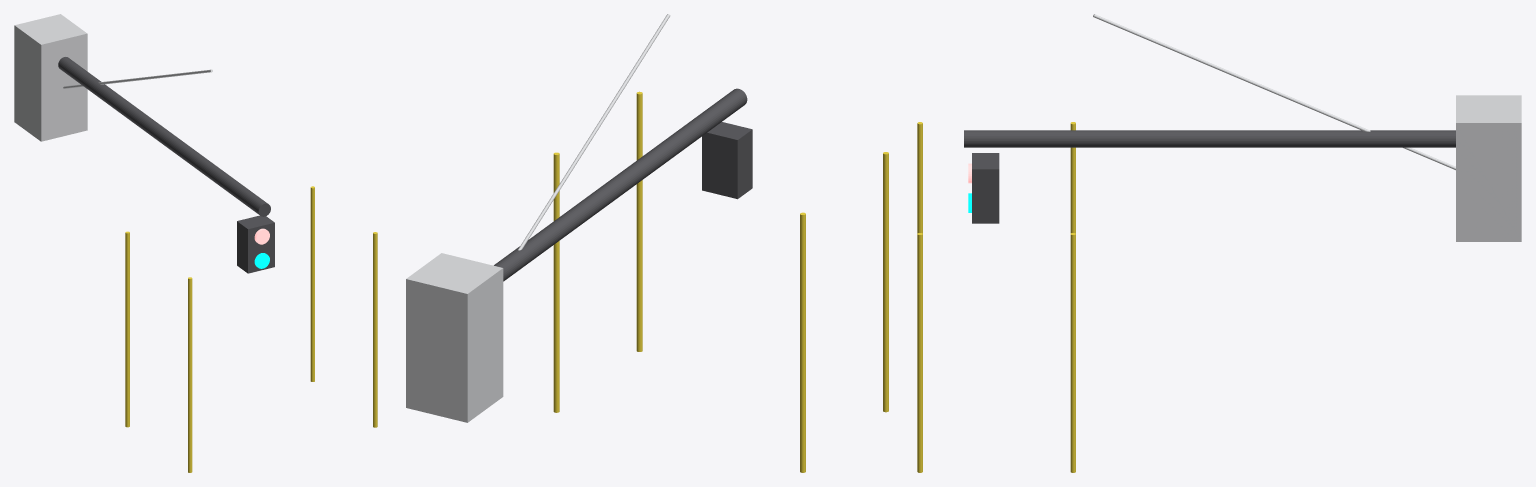
The model's file is PitLane_Gantry_Boom.fbx.
The picture shows the model from 3 angles, left to right: view 1: azimuth 30°, elevation 25°; view 2: azimuth 150°, elevation 25°; view 3: azimuth 270°, elevation 25°; orthographic projection. The views are drawn at different scales.
Parts seen in each view (by area): view 1: Mount_Gantry_Wall, Boom_Gantry_Arm, Body_ReleaseLight_Pod, Hose_WheelGun_Drop, Hose_WheelGun_Drop.001, Hose_WheelGun_Drop.003, Hose_WheelGun_Drop.002, Cable_Gantry_Support; view 2: Mount_Gantry_Wall, Boom_Gantry_Arm, Body_ReleaseLight_Pod, Hose_WheelGun_Drop.003, Hose_WheelGun_Drop.001, Hose_WheelGun_Drop, Hose_WheelGun_Drop.002, Cable_Gantry_Support; view 3: Mount_Gantry_Wall, Boom_Gantry_Arm, Body_ReleaseLight_Pod, Hose_WheelGun_Drop.001, Hose_WheelGun_Drop.003, Cable_Gantry_Support, Hose_WheelGun_Drop.002.
Part boxes in pixels (bbox=[...]): Mount_Gantry_Wall: bbox=[14, 14, 87, 141]; Boom_Gantry_Arm: bbox=[58, 57, 270, 216]; Body_ReleaseLight_Pod: bbox=[237, 215, 274, 273]; Hose_WheelGun_Drop: bbox=[125, 231, 129, 427]; Hose_WheelGun_Drop.001: bbox=[310, 186, 314, 381]; Hose_WheelGun_Drop.003: bbox=[373, 232, 377, 427]; Hose_WheelGun_Drop.002: bbox=[188, 277, 192, 472]; Cable_Gantry_Support: bbox=[63, 69, 212, 88]; Mount_Gantry_Wall: bbox=[406, 253, 503, 422]; Boom_Gantry_Arm: bbox=[494, 88, 747, 281]; Body_ReleaseLight_Pod: bbox=[702, 122, 752, 199]; Hose_WheelGun_Drop.003: bbox=[636, 91, 642, 351]; Hose_WheelGun_Drop.001: bbox=[553, 152, 559, 412]; Hose_WheelGun_Drop: bbox=[800, 212, 805, 472]; Hose_WheelGun_Drop.002: bbox=[883, 152, 888, 412]; Cable_Gantry_Support: bbox=[518, 14, 670, 250]; Mount_Gantry_Wall: bbox=[1456, 95, 1521, 241]; Boom_Gantry_Arm: bbox=[964, 130, 1455, 147]; Body_ReleaseLight_Pod: bbox=[972, 153, 999, 223]; Hose_WheelGun_Drop.001: bbox=[1070, 233, 1075, 472]; Hose_WheelGun_Drop.003: bbox=[917, 233, 922, 472]; Cable_Gantry_Support: bbox=[1093, 14, 1455, 170]; Hose_WheelGun_Drop.002: bbox=[917, 122, 922, 233].
Size of the model in its own units: 2.45 by 4.06 by 5.53.
